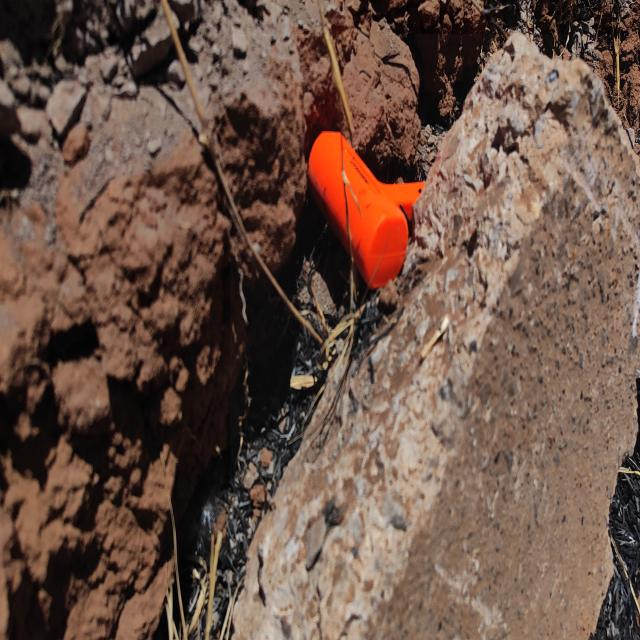Orange_hammer: (306, 128, 426, 291)
rock: (230, 34, 640, 640)
